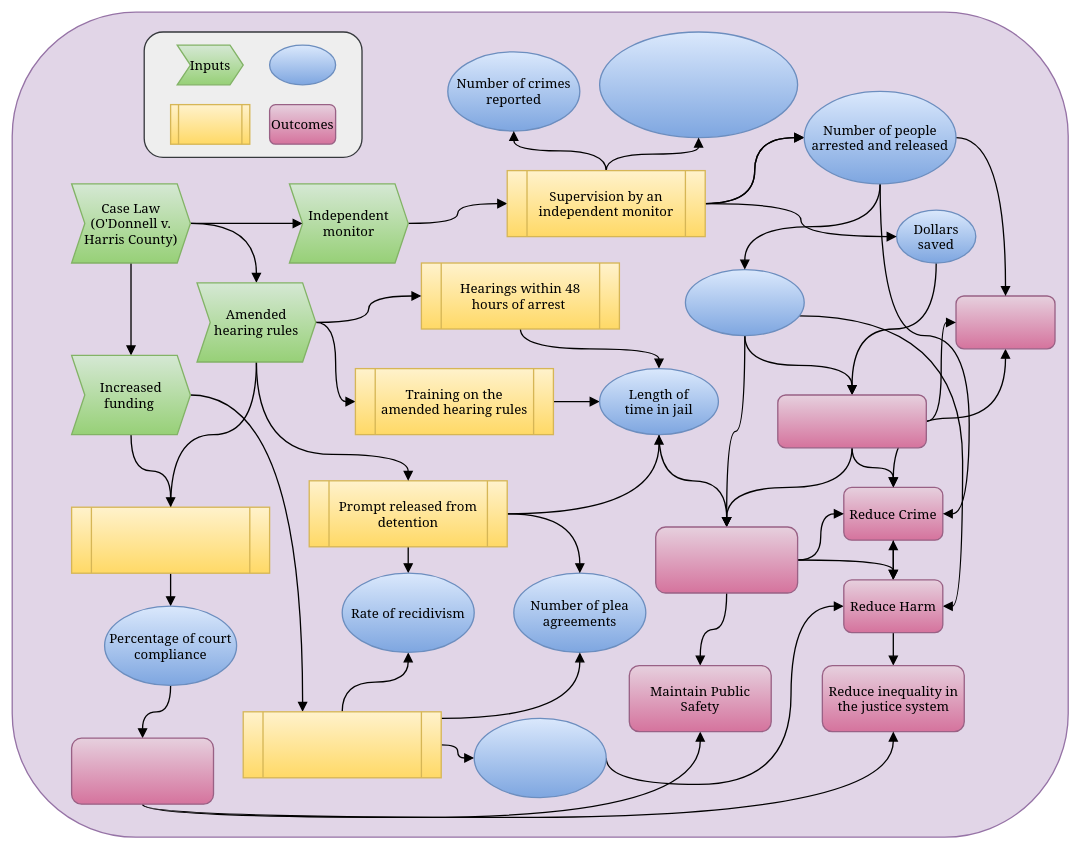
The diagram is 1080 pixels wide and 849 high, and some of its shapes have lost their labels. The box of each missing label's shape, as (x1, y1, x2, y2) in pixels:
Activities: (170, 104, 250, 145)
Ensure court compliance: (71, 737, 214, 805)
Number of convictions: (473, 717, 607, 798)
Number of reported crimes committed by individuals released pretrial: (599, 31, 798, 138)
Outputs: (269, 44, 336, 85)
Reduce negative social and economic impact: (777, 394, 927, 448)
Reduce recidivism: (955, 295, 1055, 349)
Remove factors that contribute to poverty: (655, 526, 798, 593)
Representation for all misdemeanor arrestees at their bail hearings: (242, 711, 442, 778)
Unemployment rate: (684, 269, 805, 336)
Website development with court information for arrestees: (71, 506, 270, 574)
